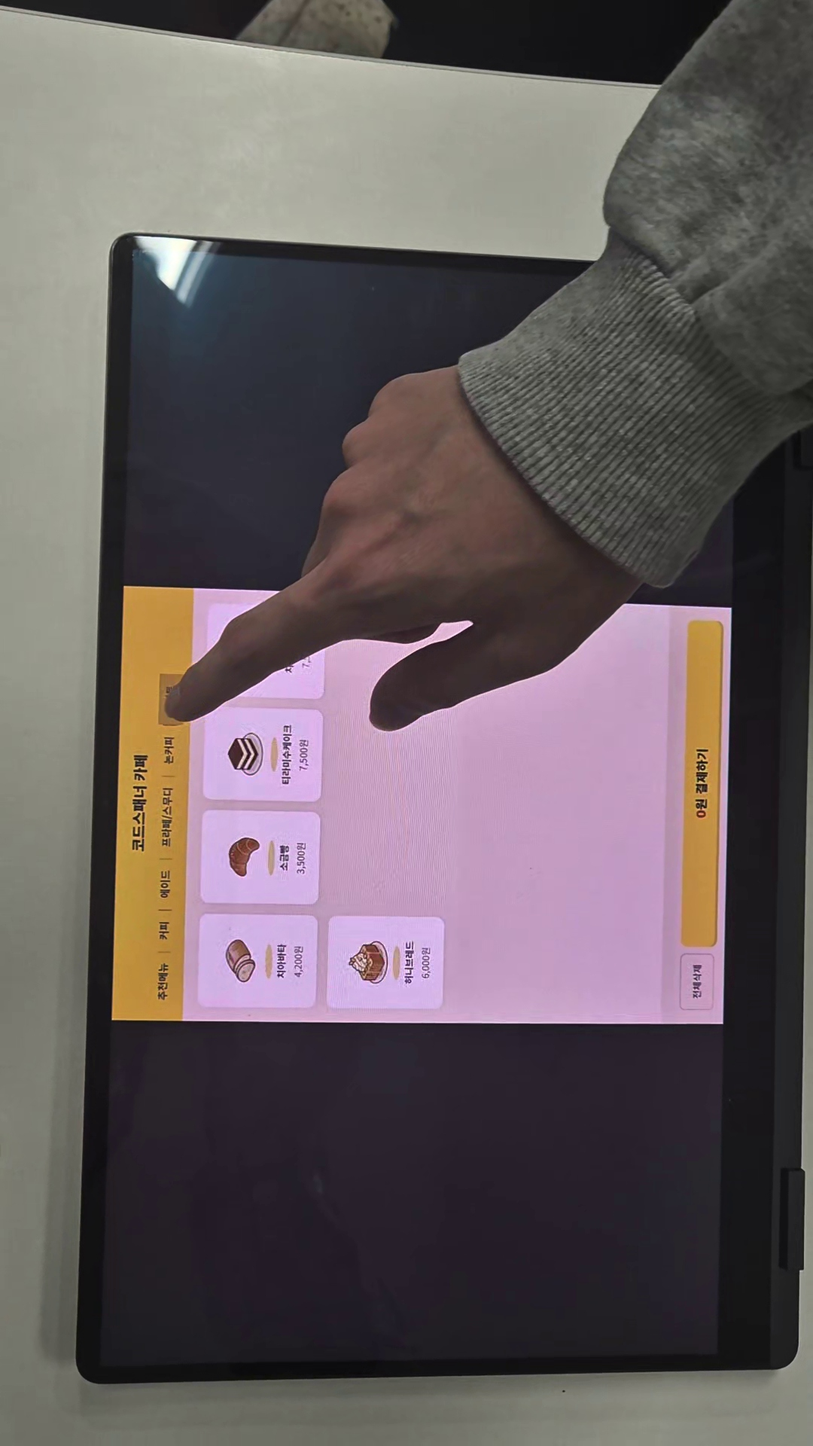action_button: (685, 620, 719, 944), (682, 955, 713, 1008)
category_tab: (157, 782, 177, 851), (153, 956, 174, 1002), (161, 734, 178, 768), (158, 865, 172, 903), (154, 917, 174, 942)
menu_back: (206, 705, 324, 804), (327, 914, 444, 1010), (199, 912, 315, 1006), (200, 812, 321, 902)
menu_name: (279, 723, 293, 788), (273, 938, 290, 988), (401, 932, 415, 987), (276, 843, 291, 873)
menu_price: (296, 734, 313, 779), (420, 939, 436, 985), (292, 936, 305, 983), (295, 834, 309, 877)
